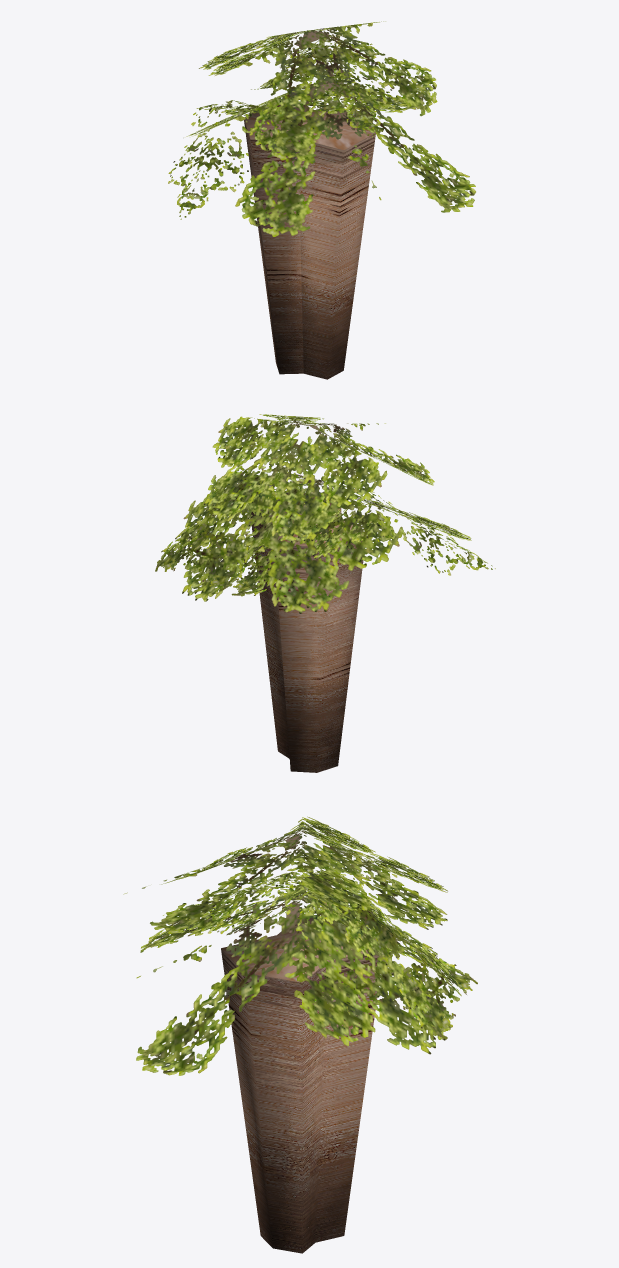
The model's file is flora_tree_baobab_1_sapling.glb.
3 views of the same model, one above another, from view 1: azimuth 30°, elevation 25°; view 2: azimuth 150°, elevation 25°; view 3: azimuth 270°, elevation 25° (orthographic). The views are drawn at different scales.
Visible parts, largest first — view 1: flora_tree_baobab_1_sapling_part1, flora_tree_baobab_1_sapling_part0; view 2: flora_tree_baobab_1_sapling_part1, flora_tree_baobab_1_sapling_part0; view 3: flora_tree_baobab_1_sapling_part1, flora_tree_baobab_1_sapling_part0.
Part boxes in pixels (x1=…): flora_tree_baobab_1_sapling_part1: x1=168, y1=21, x2=475, y2=236; flora_tree_baobab_1_sapling_part0: x1=244, y1=105, x2=375, y2=379; flora_tree_baobab_1_sapling_part1: x1=155, y1=414, x2=495, y2=613; flora_tree_baobab_1_sapling_part0: x1=250, y1=493, x2=363, y2=772; flora_tree_baobab_1_sapling_part1: x1=123, y1=816, x2=477, y2=1075; flora_tree_baobab_1_sapling_part0: x1=221, y1=917, x2=380, y2=1253.
Size of the model in its own units: 8.87 by 6.18 by 8.25.
2 materials, 2 textured.
